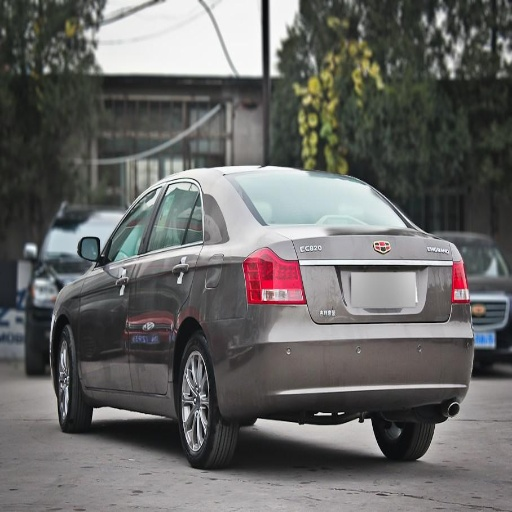back_bumper: (218, 304, 474, 415)
back_glass: (227, 171, 408, 225)
back_left_door: (131, 177, 205, 391)
